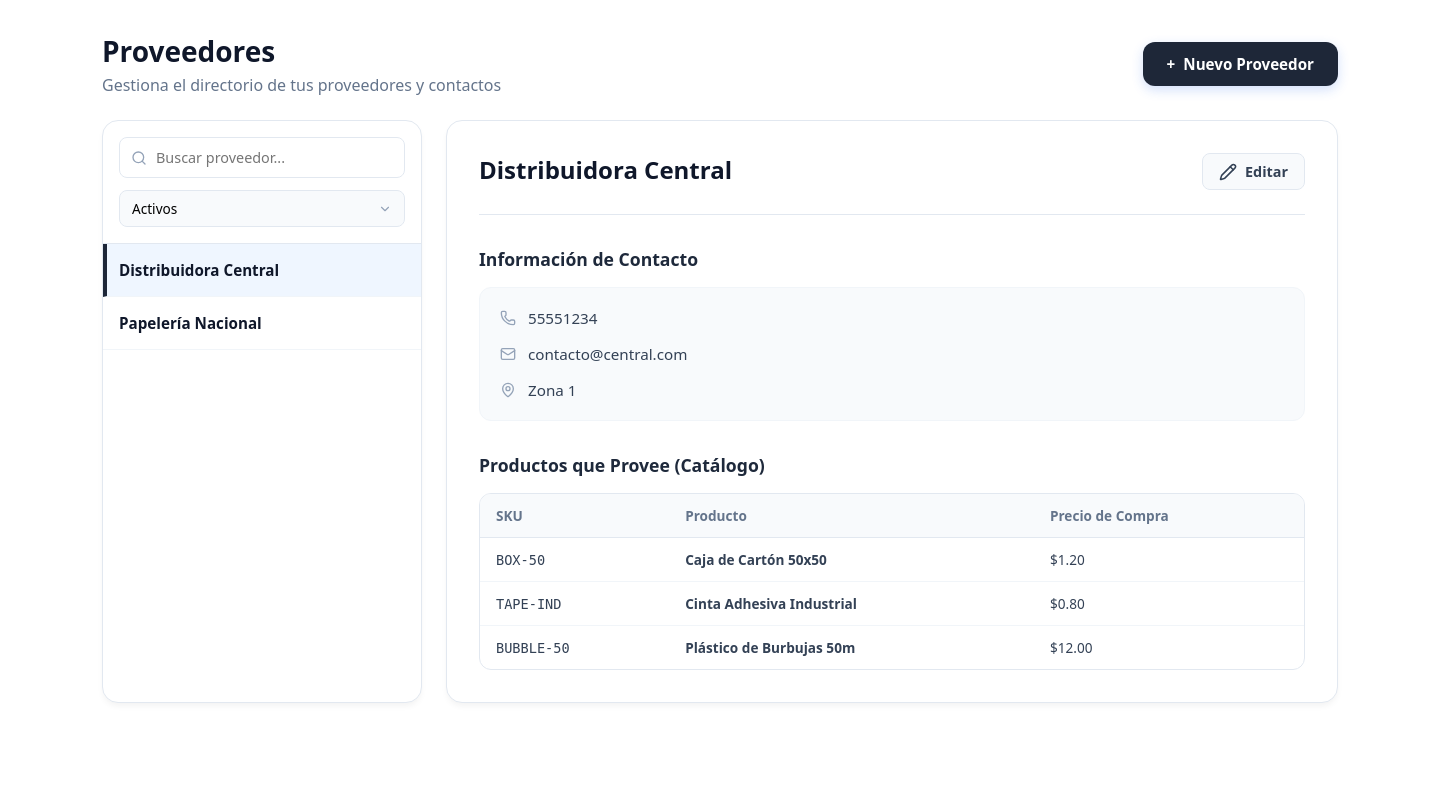
SuppliersView › abre el modal para editar un proveedor
Click the button with class "btn-icon-action" at {"x": 1254, "y": 172}, box [1202, 153, 1305, 190]
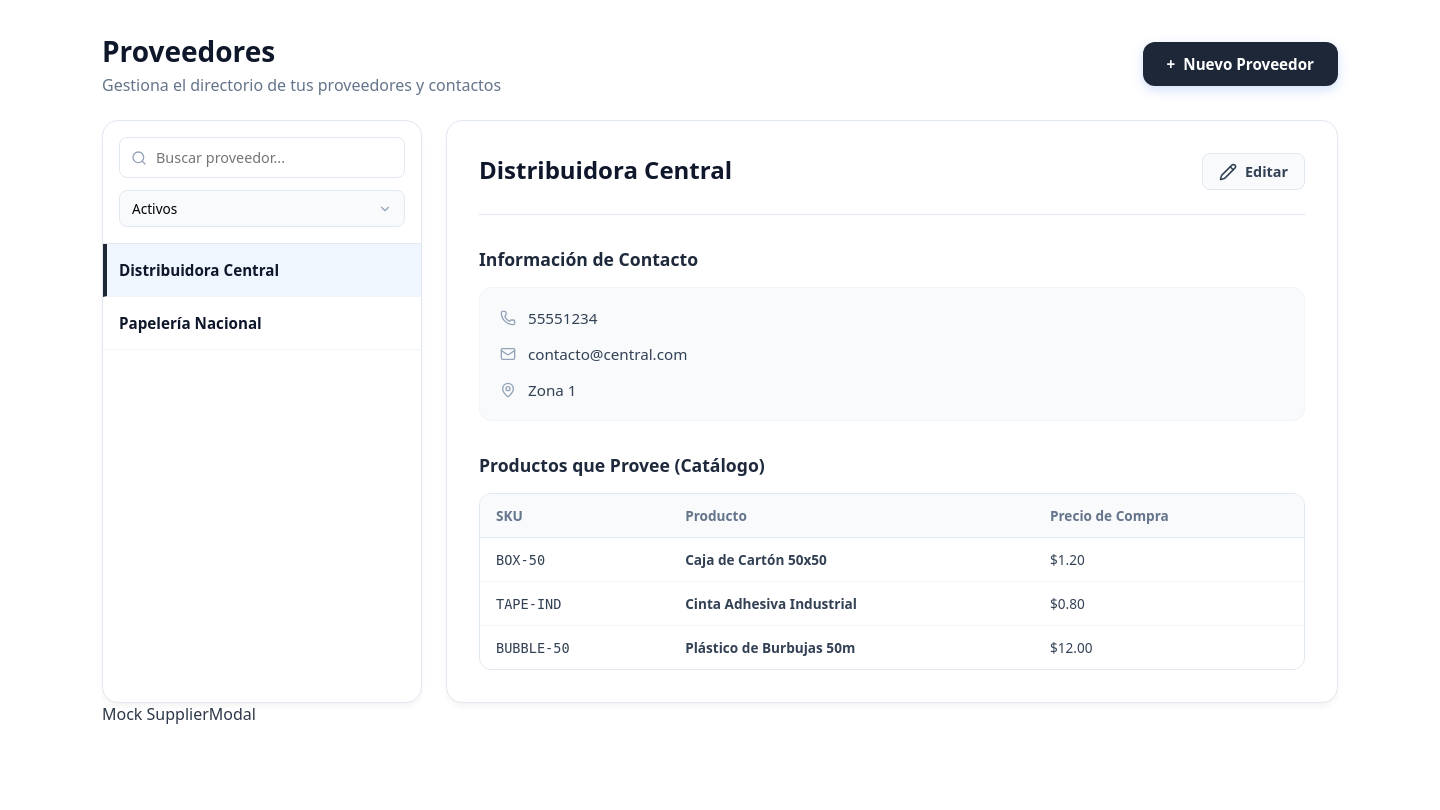
Result: the text "Mock SupplierModal" is shown at [102, 703, 256, 725]
